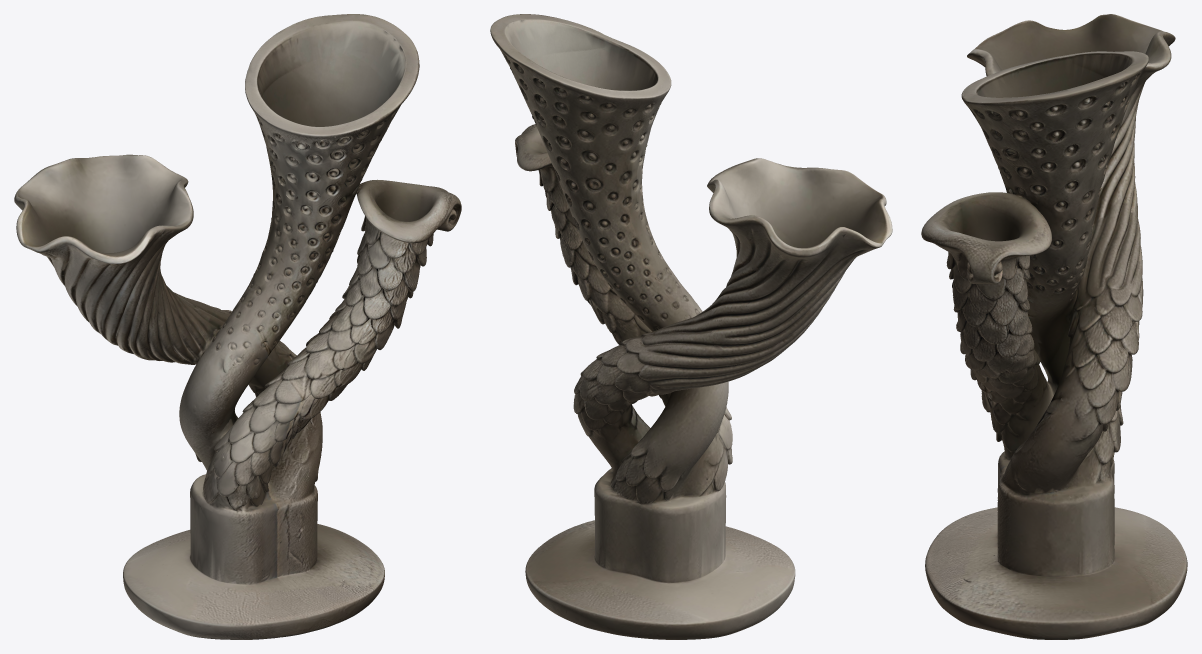
3 renders of one model, left to right at view 1: azimuth 30°, elevation 25°; view 2: azimuth 150°, elevation 25°; view 3: azimuth 270°, elevation 25°, orthographic. The views are drawn at different scales.
Visible parts, largest first — view 1: tripo_node_b46f1db4-3ecb-4b5d-975d-c25aff6a56e1; view 2: tripo_node_b46f1db4-3ecb-4b5d-975d-c25aff6a56e1; view 3: tripo_node_b46f1db4-3ecb-4b5d-975d-c25aff6a56e1.
Part boxes in pixels (x1,y1,x2,y2): tripo_node_b46f1db4-3ecb-4b5d-975d-c25aff6a56e1: [14, 14, 461, 639]; tripo_node_b46f1db4-3ecb-4b5d-975d-c25aff6a56e1: [490, 14, 892, 639]; tripo_node_b46f1db4-3ecb-4b5d-975d-c25aff6a56e1: [921, 14, 1187, 639].
Size of the model in its own units: 0.7701 by 0.979 by 0.4109.
Materials: 1 (1 with a texture image).
